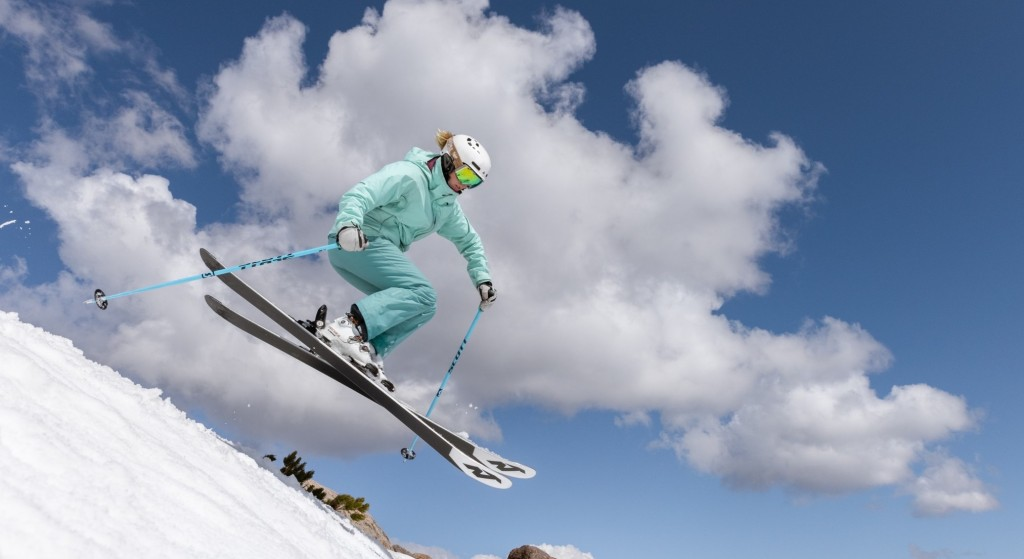skier: (98, 61, 577, 505)
